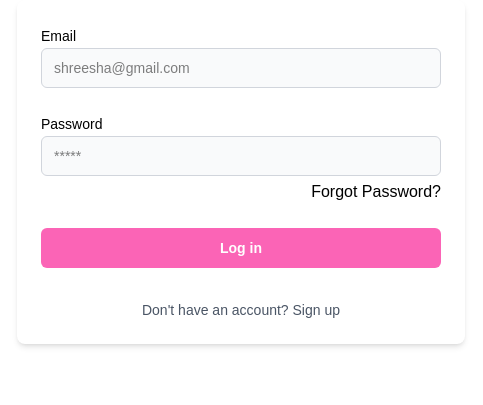
Scenario: LoginForm › should show validation error for empty form
Click the button "Log in": (241, 248) [41,228,441,268]
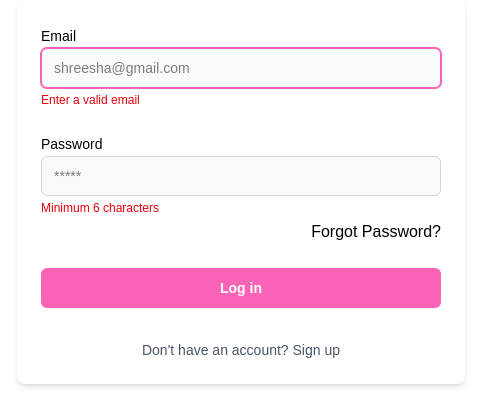
Check: the text "Enter a valid email" is shown, box [41,93,140,107]
